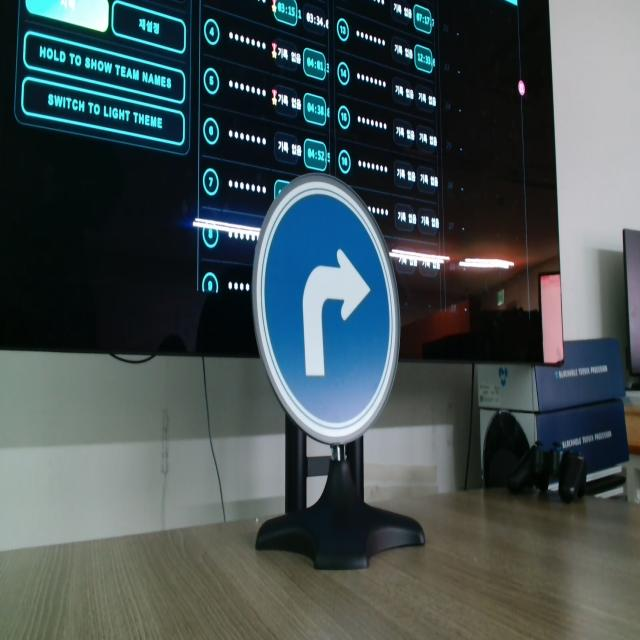right_dierection: (247, 152, 416, 493)
